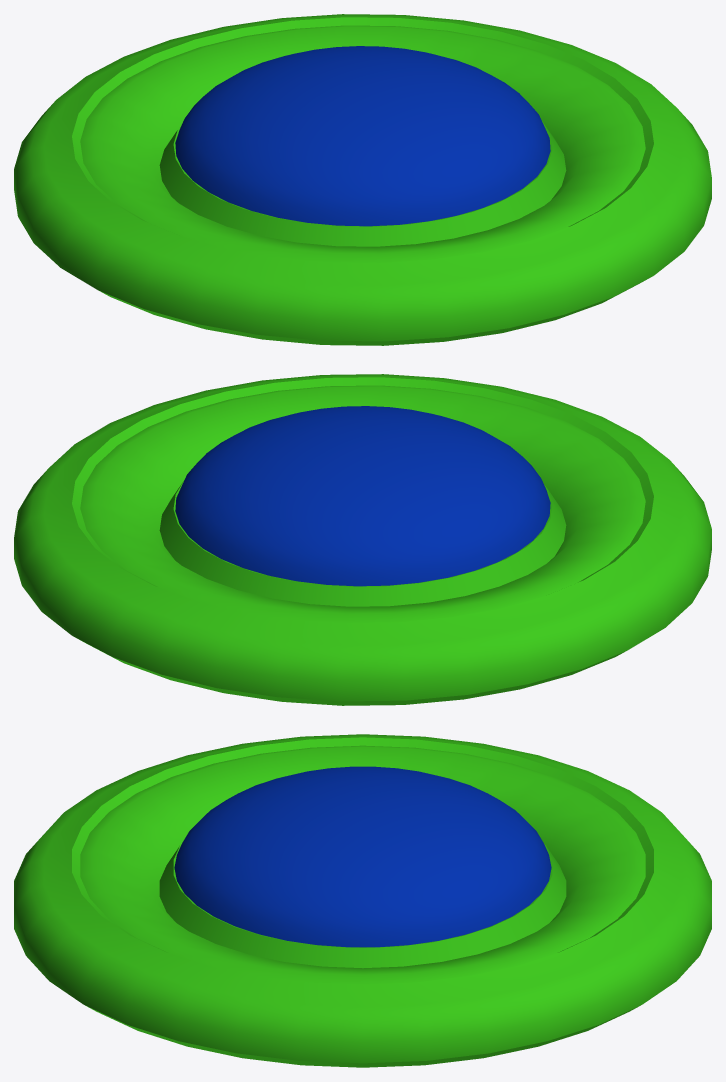
The model's file is Holo Projector Aprature.FBX.
3 renders of one model, top to bottom at view 1: azimuth 30°, elevation 25°; view 2: azimuth 150°, elevation 25°; view 3: azimuth 270°, elevation 25°, orthographic.
Parts seen in each view (by area): view 1: Cylinder002, Sphere002; view 2: Cylinder002, Sphere002; view 3: Cylinder002, Sphere002.
Boxes of the visible parts, x1,y1,x2,y2 form: Cylinder002: [14, 14, 711, 345]; Sphere002: [175, 46, 550, 226]; Cylinder002: [14, 374, 711, 705]; Sphere002: [175, 406, 550, 586]; Cylinder002: [14, 734, 711, 1067]; Sphere002: [174, 766, 551, 947].
Size of the model in its own units: 14.69 by 2.87 by 14.63.
